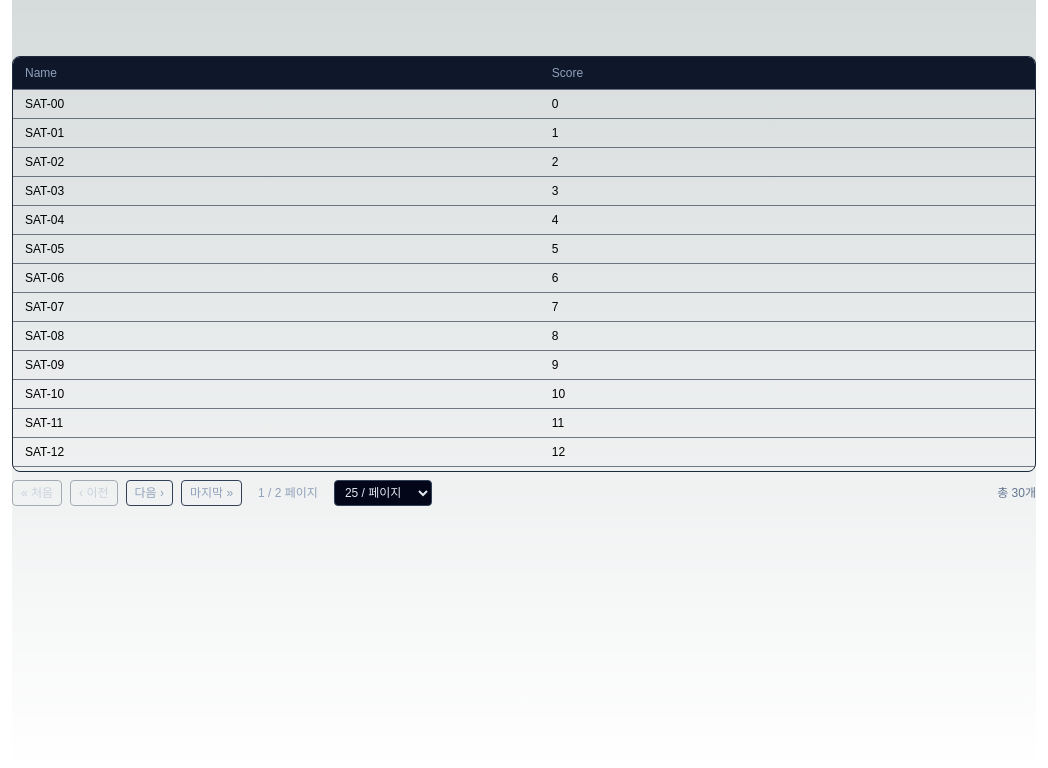
Test: DataTable (client-side) › sorts on header click (numeric columns toggle desc first)
The width and height of the screenshot is (1048, 768).
Click the column heading "Score": click(787, 73) left=540, top=57, right=1035, bottom=90
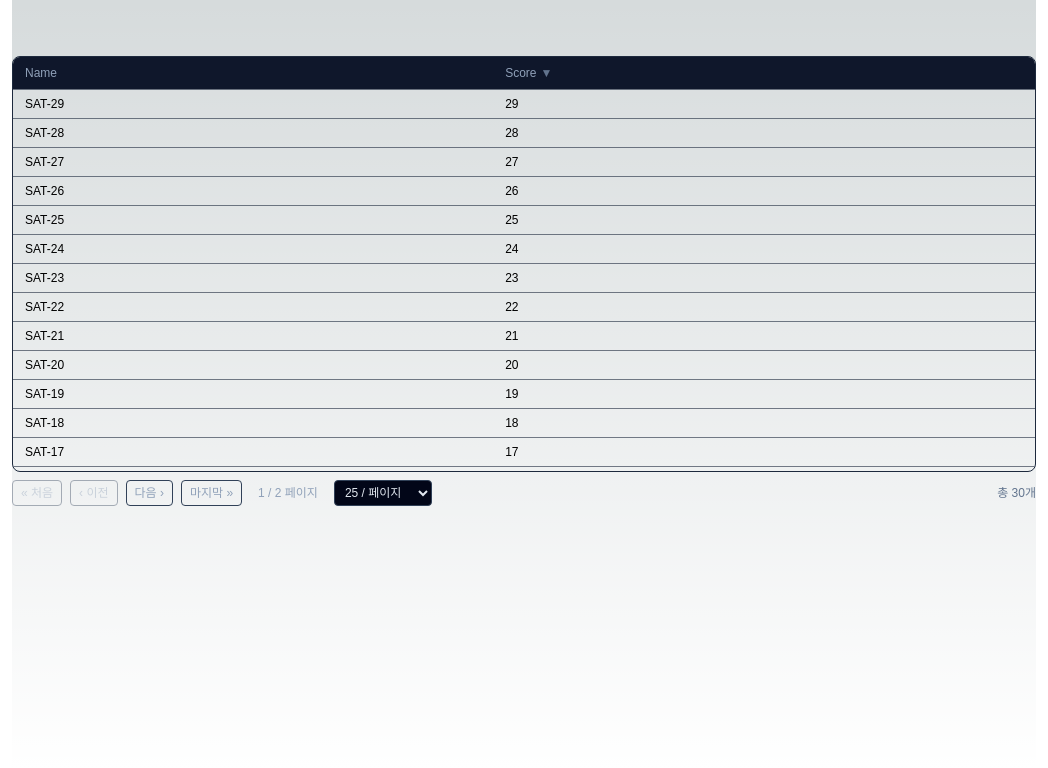
Result: the cell "SAT-29" is shown at left=13, top=90, right=493, bottom=118
Click the column heading "Score": click(764, 73) left=493, top=57, right=1035, bottom=90
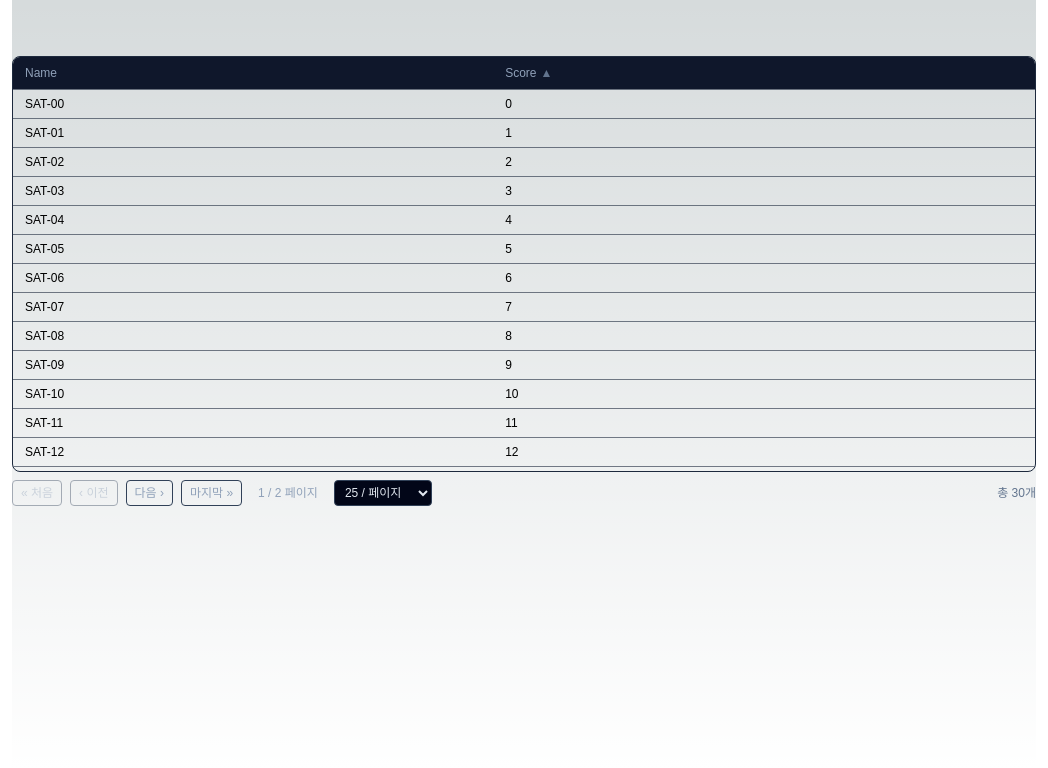
Result: the cell "SAT-00" is shown at left=13, top=90, right=493, bottom=118
